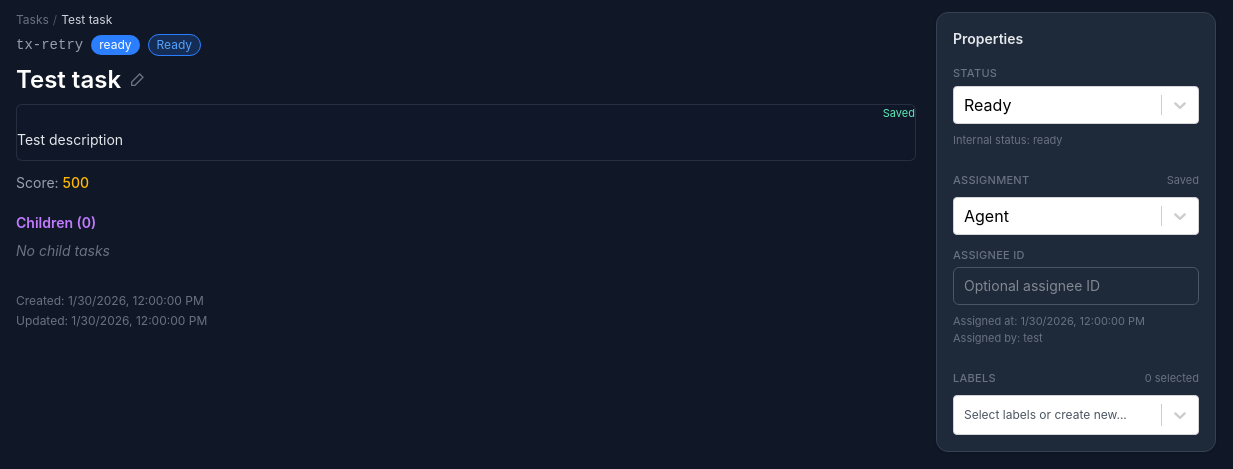
Scenario: TaskDetail › keeps a failed description draft and lets the user retry explicitly
Step 1. Replace the text in the text box named "Task description" with "Keep this draft" → (466, 140), box [17, 126, 915, 154]
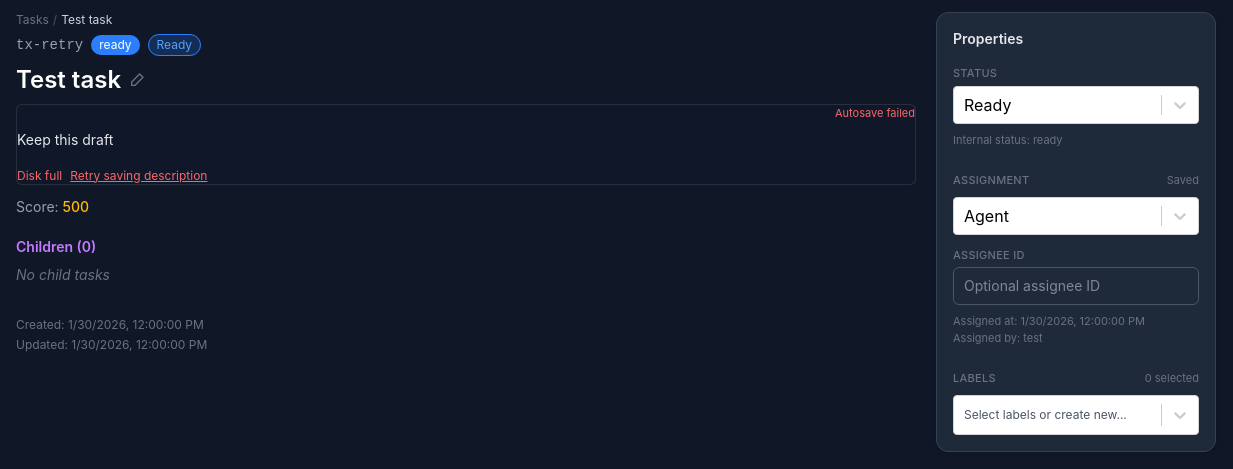
Result: the text "Disk full" is shown at [17, 168, 62, 184]
Step 2. Click the button "Retry saving description" → (139, 176), box [70, 168, 207, 184]
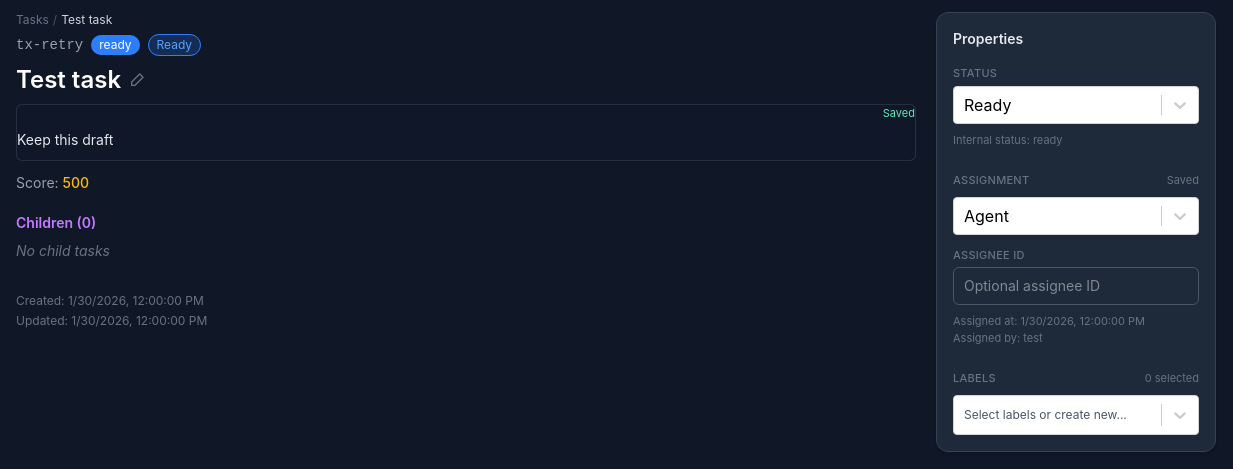
Result: the text "Autosave failed" is gone
